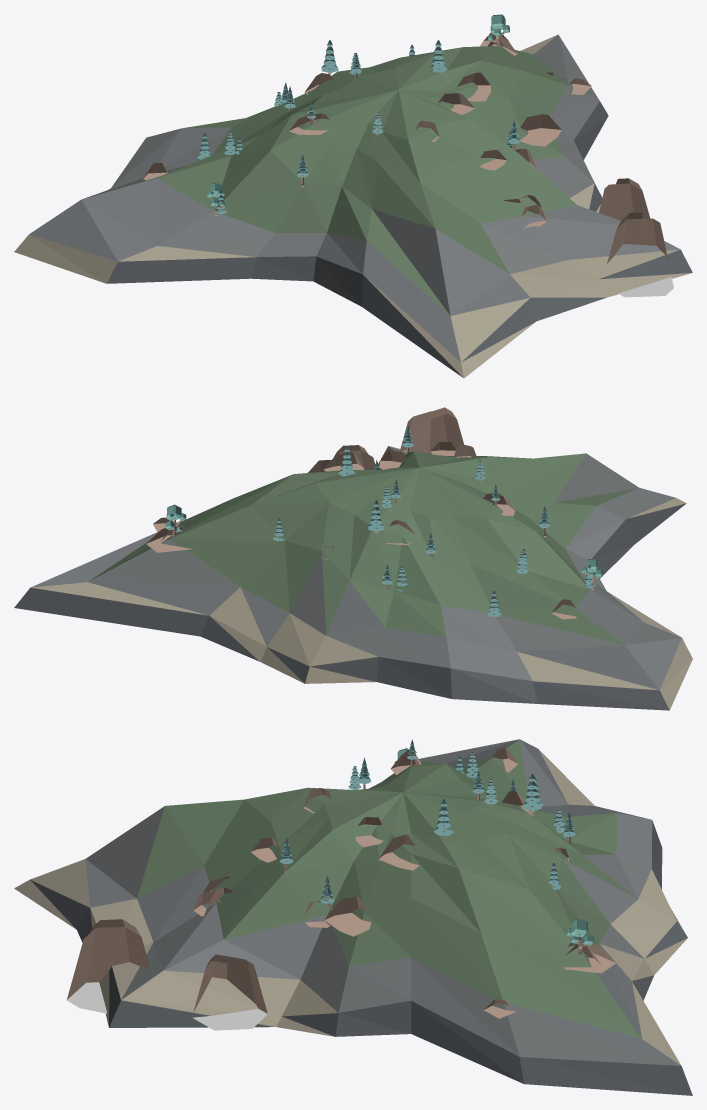
File: hags_rock_lod0.glb
3 renders of one model, top to bottom at view 1: azimuth 30°, elevation 25°; view 2: azimuth 150°, elevation 25°; view 3: azimuth 270°, elevation 25°, orthographic. The views are drawn at different scales.
Size of the model in its own units: 3.07 by 0.7685 by 2.58.
